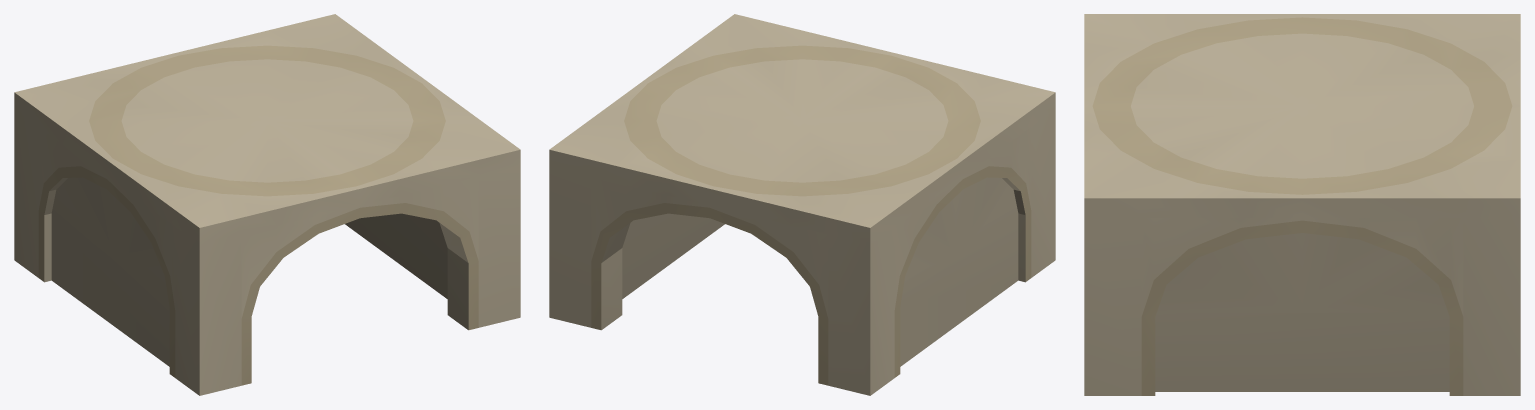
Rendered from dome.arch_2way.plaster.glb.
3 renders of one model, left to right at view 1: azimuth 30°, elevation 25°; view 2: azimuth 150°, elevation 25°; view 3: azimuth 270°, elevation 25°, orthographic. The views are drawn at different scales.
Parts seen in each view (by area): view 1: dome_arch_2way_plaster; view 2: dome_arch_2way_plaster; view 3: dome_arch_2way_plaster.
Boxes of the visible parts, x1,y1,x2,y2 form: dome_arch_2way_plaster: (14, 14, 520, 395); dome_arch_2way_plaster: (549, 14, 1055, 395); dome_arch_2way_plaster: (1084, 14, 1520, 395).
Size of what is drawn, in the model's own units: 8 by 4 by 8.
